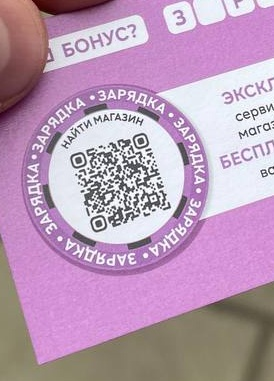2d: (67, 131, 172, 235)
